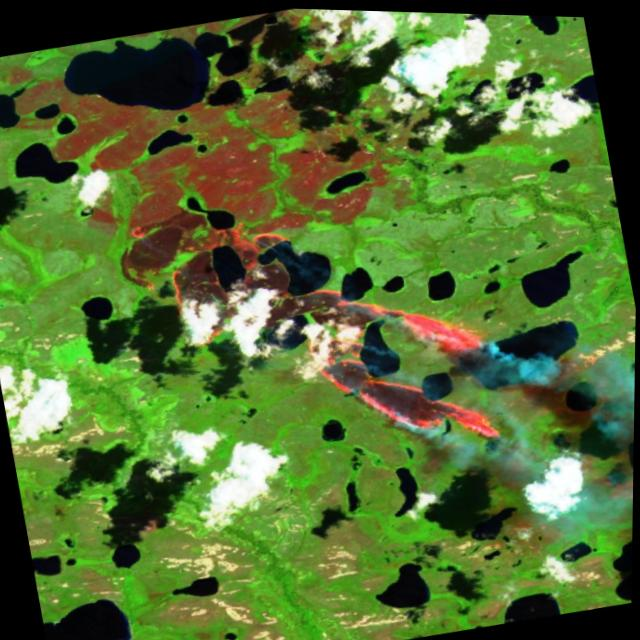fire: (106, 145, 529, 510)
